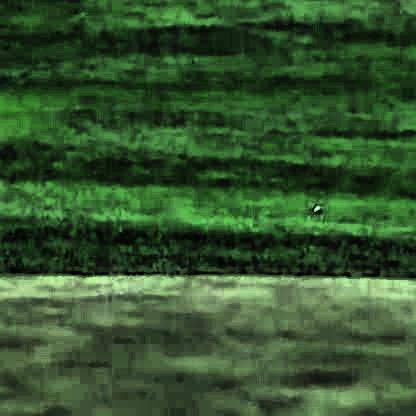golfball: (308, 203, 319, 213)
